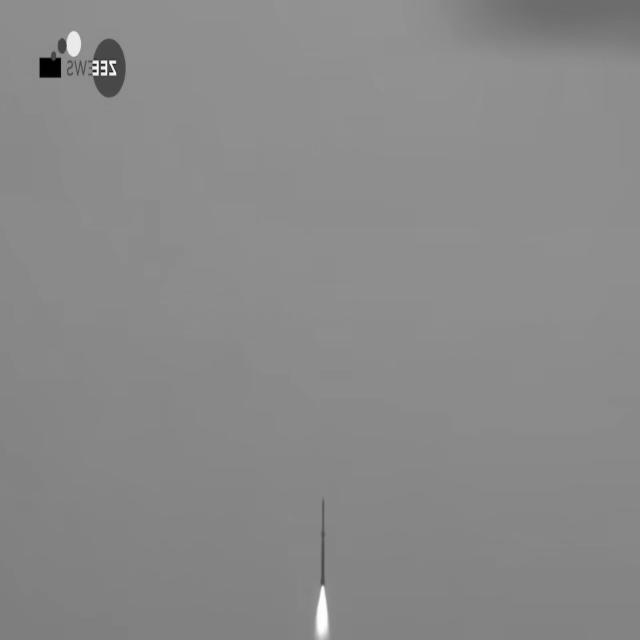Missile: (318, 494, 328, 592)
